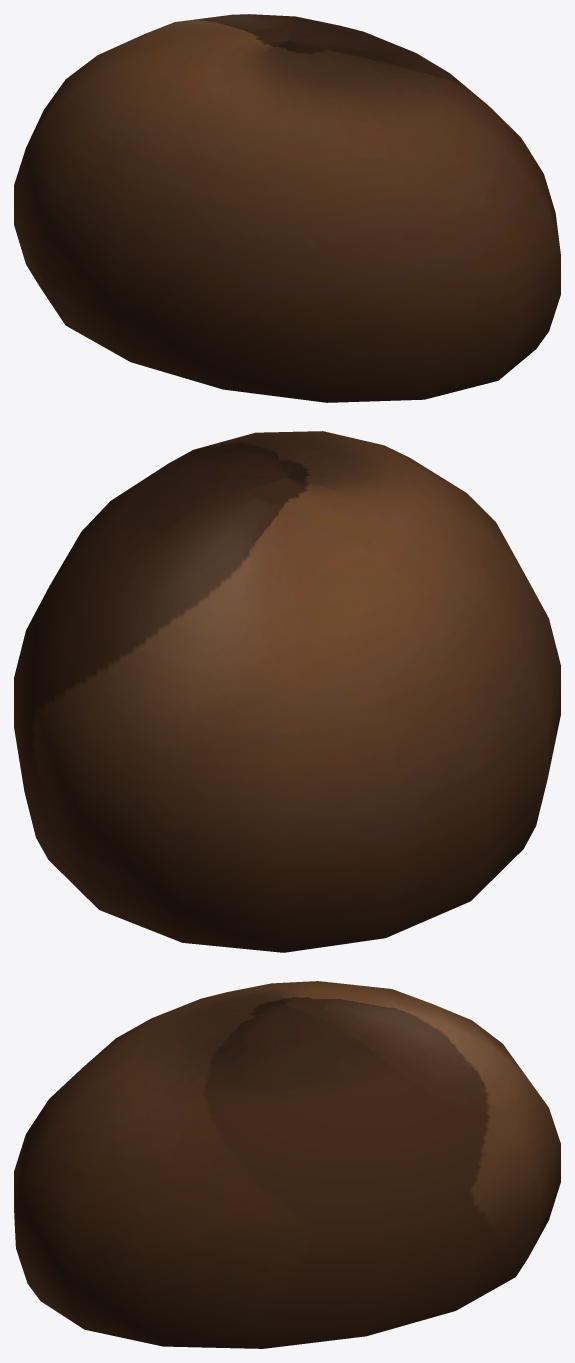
The model's file is GoombaIzqPie.obj.
The picture shows the model from 3 angles, top to bottom: view 1: azimuth 30°, elevation 25°; view 2: azimuth 150°, elevation 25°; view 3: azimuth 270°, elevation 25°; orthographic projection. The views are drawn at different scales.
Visible parts, largest first — view 1: polySurface1; view 2: polySurface1; view 3: polySurface1.
Part boxes in pixels (x1,y1,x2,y2): polySurface1: (14, 14, 560, 402); polySurface1: (14, 431, 560, 952); polySurface1: (14, 981, 560, 1348).
Size of the model in its own units: 0.1911 by 0.1201 by 0.2309.
Materials: 1 (1 with a texture image).
